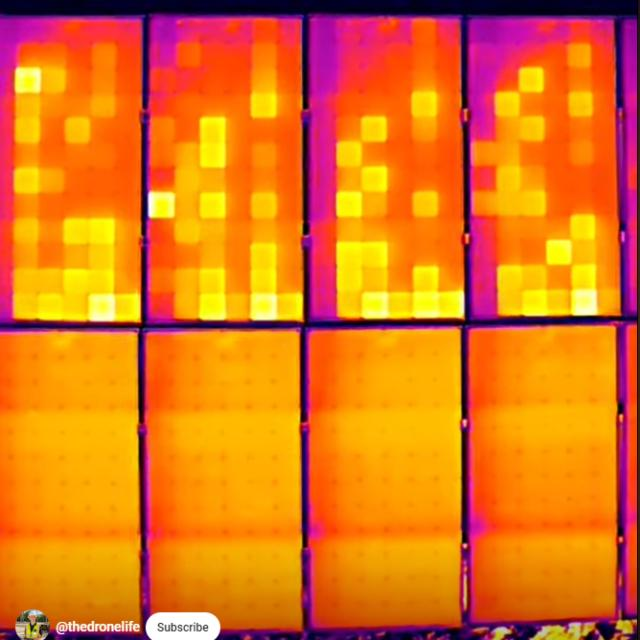hotspot group: (148, 82, 306, 320), (310, 79, 460, 320), (7, 60, 140, 324), (468, 64, 607, 234), (486, 200, 626, 321)
panel with hotspots: (302, 9, 470, 324), (143, 8, 309, 325), (465, 12, 629, 324), (0, 6, 148, 331)
